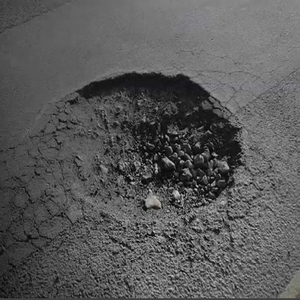pothole: (61, 65, 245, 217)
